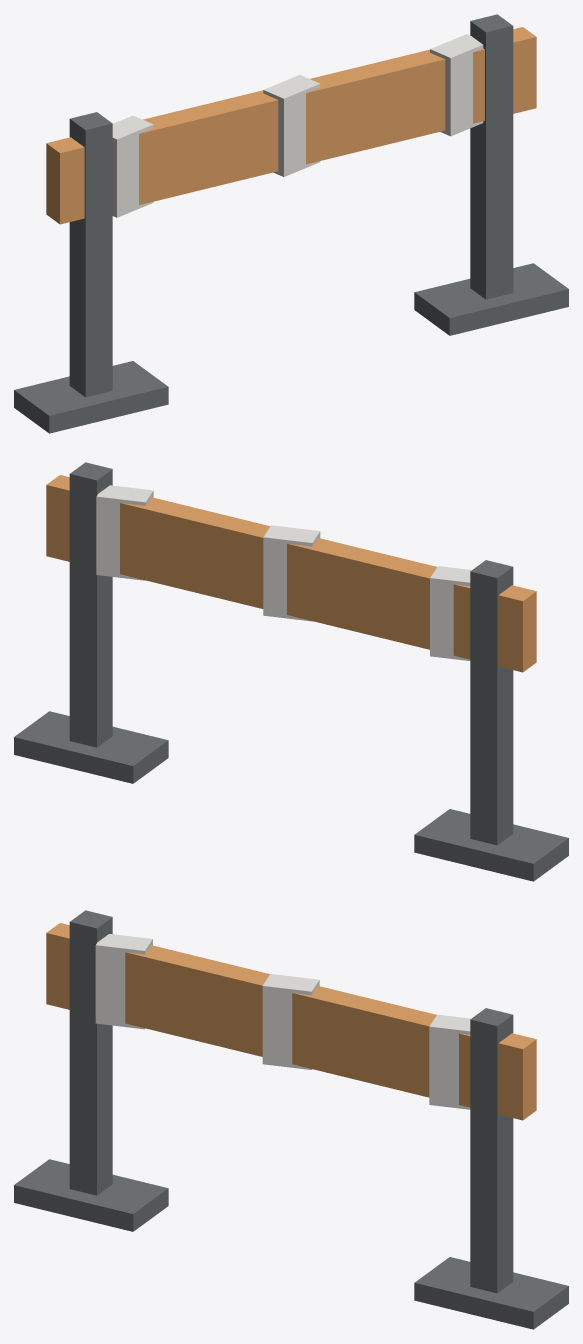
Rendered from barrier_01.glb.
3 views of the same model, one above another, from view 1: azimuth 30°, elevation 25°; view 2: azimuth 150°, elevation 25°; view 3: azimuth 330°, elevation 25° (orthographic).
Visible parts, largest first — view 1: board, leg-0.588, leg0.588, foot-0.588, foot0.588, stripe0.0, stripe0.48999999999999994, stripe-0.48999999999999994; view 2: board, leg-0.588, leg0.588, foot-0.588, foot0.588, stripe0.0, stripe0.48999999999999994, stripe-0.48999999999999994; view 3: board, leg0.588, leg-0.588, foot0.588, foot-0.588, stripe0.0, stripe-0.48999999999999994, stripe0.48999999999999994.
Boxes of the visible parts, x1,y1,x2,y2 form: board: (46, 27, 536, 224); leg-0.588: (69, 112, 112, 397); leg0.588: (470, 14, 513, 299); foot-0.588: (14, 361, 168, 433); foot0.588: (414, 263, 568, 335); stripe0.0: (263, 75, 320, 176); stripe0.48999999999999994: (430, 34, 483, 136); stripe-0.48999999999999994: (112, 115, 153, 217); board: (46, 475, 536, 672); leg-0.588: (470, 560, 513, 845); leg0.588: (69, 462, 112, 747); foot-0.588: (414, 809, 568, 881); foot0.588: (14, 711, 168, 783); stripe0.0: (263, 525, 320, 621); stripe0.48999999999999994: (96, 485, 153, 580); stripe-0.48999999999999994: (430, 566, 471, 660); board: (46, 923, 536, 1120); leg0.588: (470, 1008, 513, 1293); leg-0.588: (69, 910, 112, 1195); foot0.588: (414, 1257, 568, 1329); foot-0.588: (14, 1159, 168, 1231); stripe0.0: (262, 974, 319, 1069); stripe-0.48999999999999994: (95, 934, 152, 1029); stripe0.48999999999999994: (429, 1014, 470, 1109).
Size of the model in its own units: 1.53 by 0.8 by 0.18.
